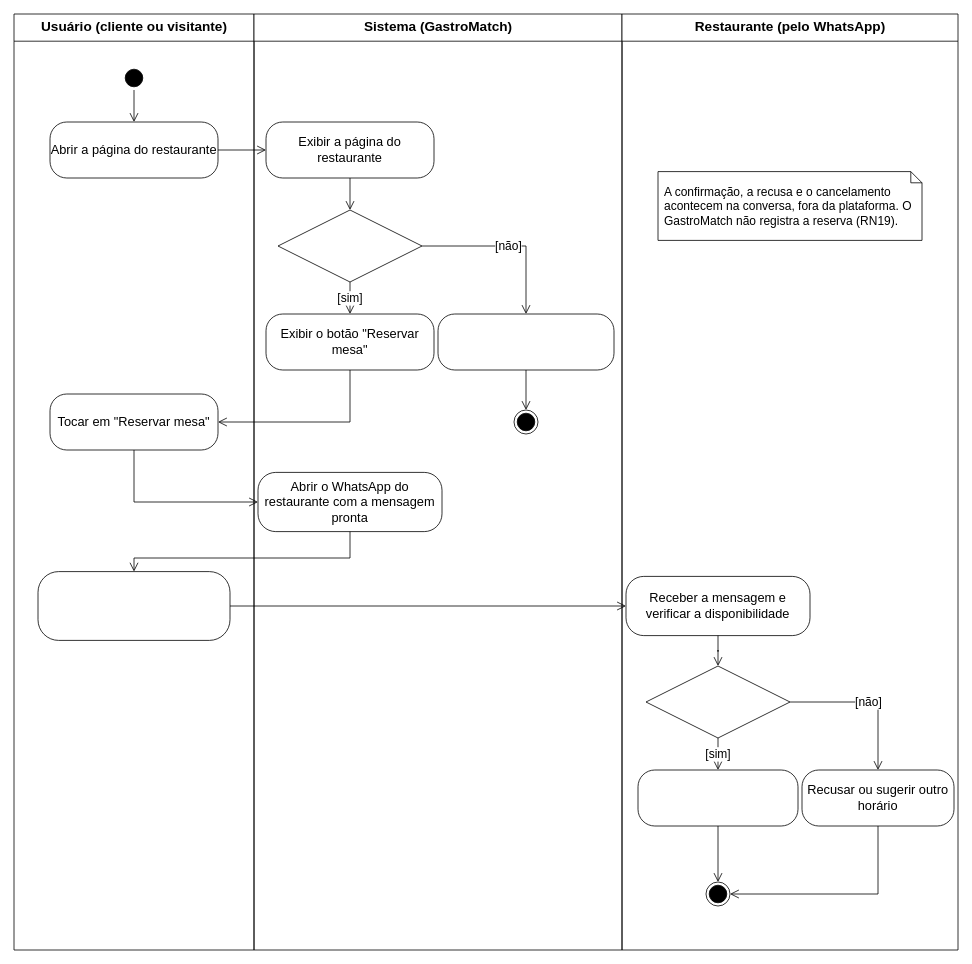
This 972x964 diagram has some shape labels left out. The shapes that lost their labels are listed below. From the top down, each one's centre as x and y in pixels, then its label:
(x=349, y=245): WhatsApp informado?
(x=525, y=341): Exibir o aviso "Reservas diretamente no restaurante"
(x=133, y=605): Completar a mensagem com data, horário e número de pessoas e enviar
(x=717, y=701): Há disponibilidade?
(x=717, y=797): Confirmar a reserva na conversa
